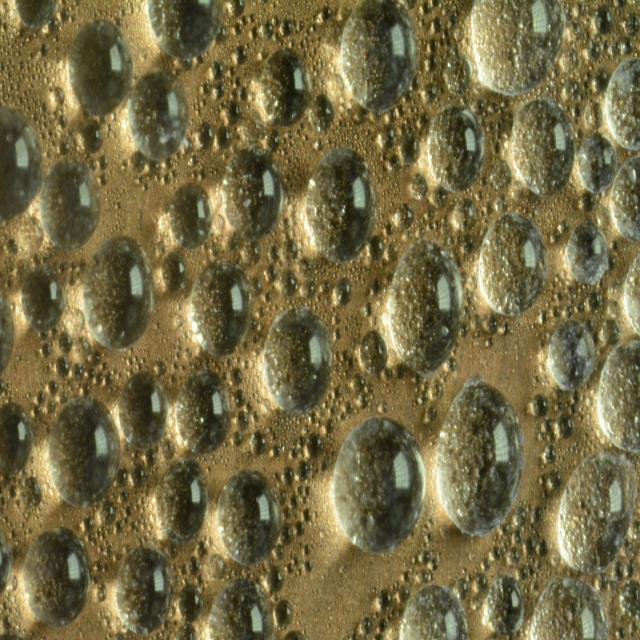dr: (434, 373, 525, 543), (328, 413, 428, 556), (555, 448, 640, 577), (386, 238, 466, 374), (469, 0, 567, 95), (260, 300, 336, 418), (302, 147, 378, 264), (81, 233, 155, 353), (340, 0, 418, 113), (45, 393, 121, 508), (476, 208, 550, 318), (20, 524, 90, 628), (510, 96, 577, 200), (187, 257, 254, 361), (216, 466, 283, 569), (65, 16, 134, 115), (38, 156, 104, 252), (220, 142, 284, 240), (126, 69, 191, 161), (114, 543, 176, 637), (529, 573, 611, 640), (428, 102, 487, 193), (0, 105, 44, 223), (596, 336, 640, 453), (147, 0, 226, 63), (204, 573, 275, 640), (176, 372, 233, 454), (157, 459, 210, 546), (117, 368, 173, 448), (397, 579, 469, 640), (258, 45, 312, 126), (546, 318, 598, 392), (602, 53, 640, 152), (168, 178, 214, 252), (21, 264, 67, 332), (564, 220, 608, 288), (575, 132, 618, 194), (611, 153, 640, 244), (483, 572, 526, 633), (1, 402, 32, 485), (357, 327, 389, 379), (12, 0, 64, 28), (160, 248, 190, 292), (452, 197, 478, 238), (177, 584, 205, 622), (79, 115, 105, 155), (309, 94, 335, 132), (396, 131, 420, 169), (333, 273, 354, 308), (272, 596, 294, 628), (276, 269, 298, 298), (410, 172, 431, 202), (305, 429, 325, 460), (248, 428, 267, 458), (96, 500, 116, 526), (129, 463, 148, 490), (57, 329, 74, 354), (54, 354, 70, 378), (153, 359, 166, 378), (48, 265, 56, 287)
